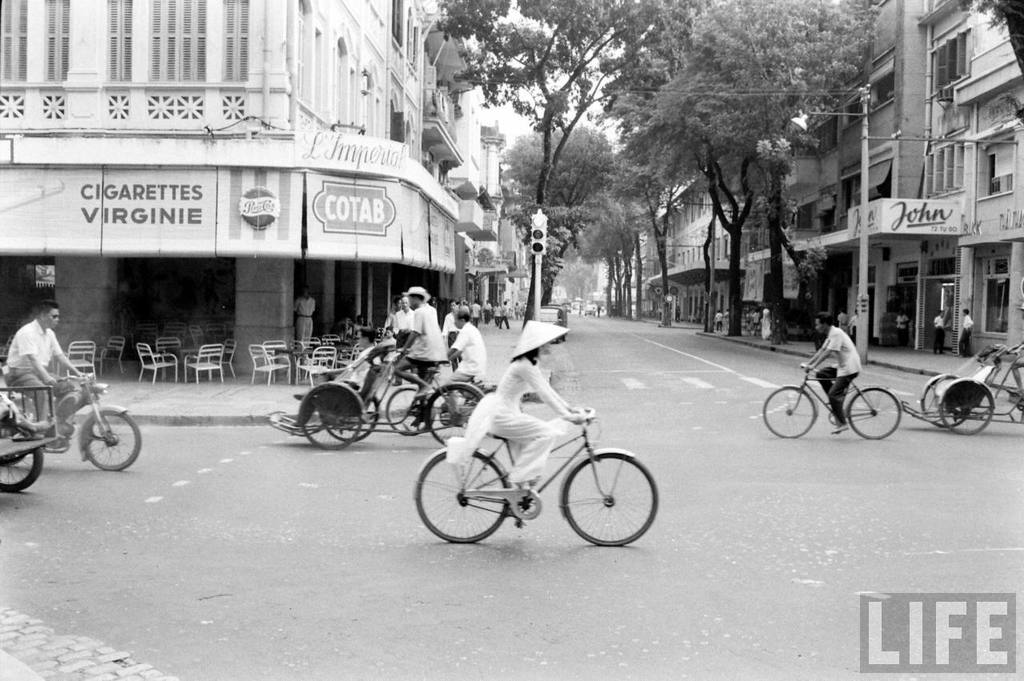Bike_away: (416, 404, 661, 548)
